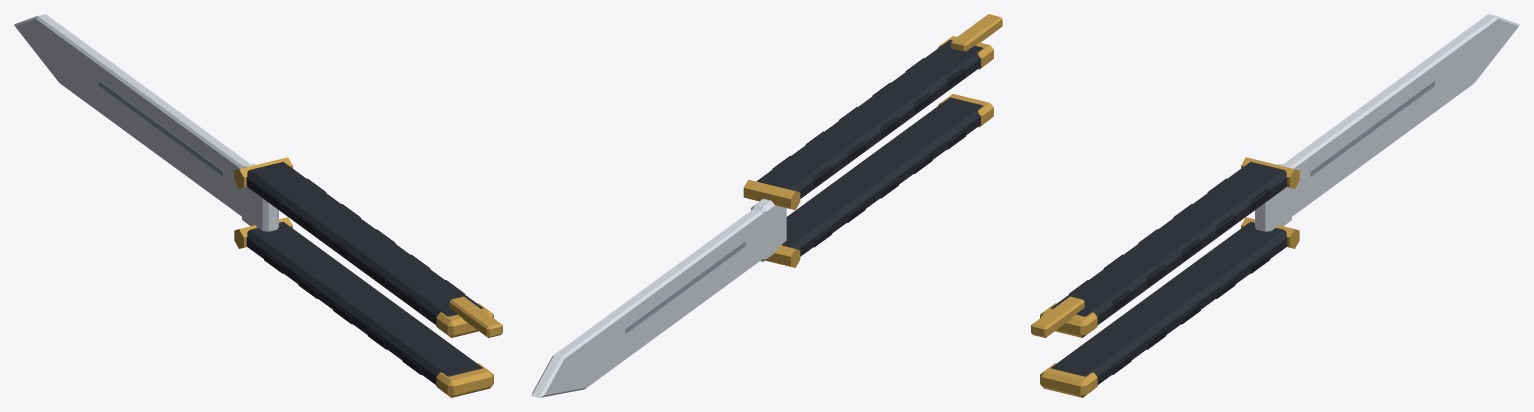
Rendered from butterfly.glb.
The picture shows the model from 3 angles, left to right: view 1: azimuth 30°, elevation 25°; view 2: azimuth 150°, elevation 25°; view 3: azimuth 330°, elevation 25°; orthographic projection. The views are drawn at different scales.
Visible parts, largest first — view 1: butterfly_bladeMesh, butterfly_handleA, butterfly_handleB; view 2: butterfly_bladeMesh, butterfly_handleA, butterfly_handleB; view 3: butterfly_bladeMesh, butterfly_handleA, butterfly_handleB.
Part boxes in pixels (box(x1,y1,x2,y2)): butterfly_bladeMesh: box(14, 14, 278, 231); butterfly_handleA: box(234, 157, 502, 337); butterfly_handleB: box(234, 217, 493, 397); butterfly_bladeMesh: box(531, 198, 786, 397); butterfly_handleA: box(743, 14, 1002, 210); butterfly_handleB: box(765, 94, 993, 267); butterfly_bladeMesh: box(1255, 14, 1519, 231); butterfly_handleA: box(1031, 157, 1299, 337); butterfly_handleB: box(1040, 217, 1299, 397).
Bounding box in the file's own units: 0.018 × 0.0305 × 0.3035.
